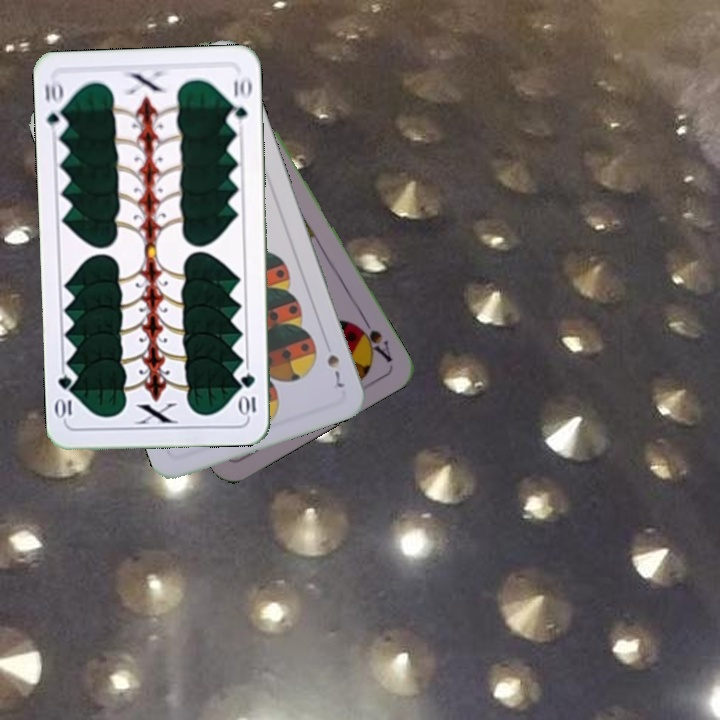G10: (40, 76, 69, 136), (237, 369, 258, 419)
S7: (323, 350, 347, 391)
SA: (351, 312, 395, 366)
